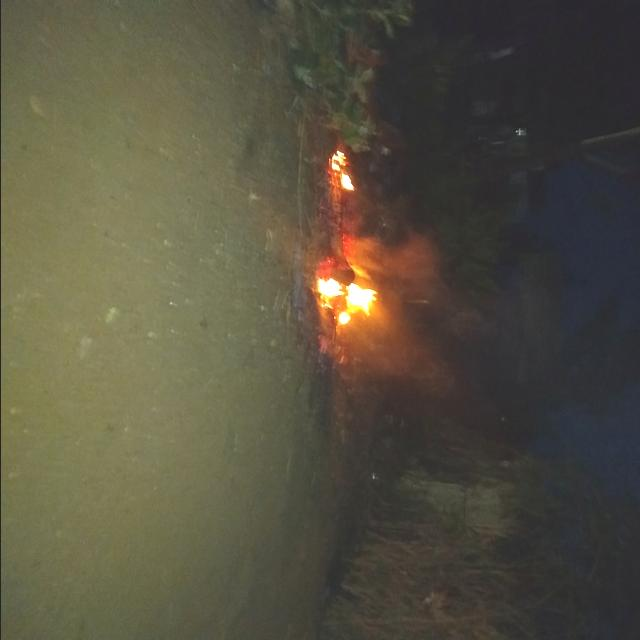firerotation: (314, 254, 384, 328), (324, 148, 362, 192)
